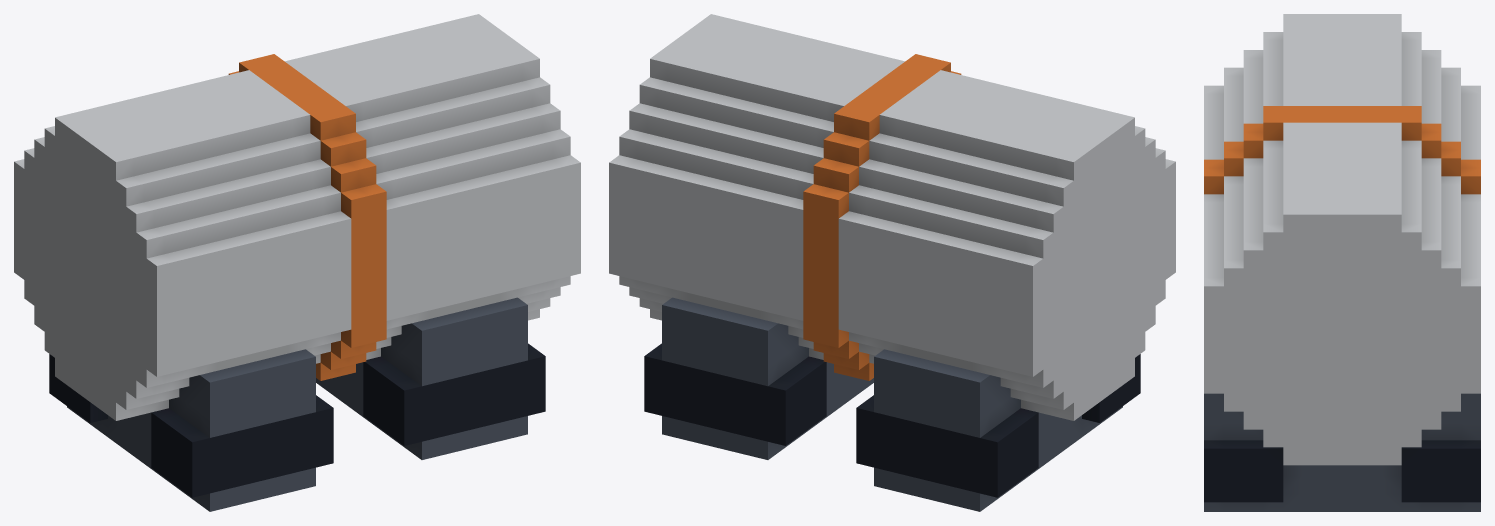
The model's file is tank_s.glb.
The picture shows the model from 3 angles, left to right: view 1: azimuth 30°, elevation 25°; view 2: azimuth 150°, elevation 25°; view 3: azimuth 270°, elevation 25°; orthographic projection. The views are drawn at different scales.
Visible parts, largest first — view 1: Base; view 2: Base; view 3: Base.
Boxes of the visible parts, bbox=[...] form: Base: bbox=[14, 14, 580, 511]; Base: bbox=[609, 14, 1175, 511]; Base: bbox=[1204, 14, 1480, 511].
Size of the model in its own units: 2.4 by 1.8 by 1.4.
